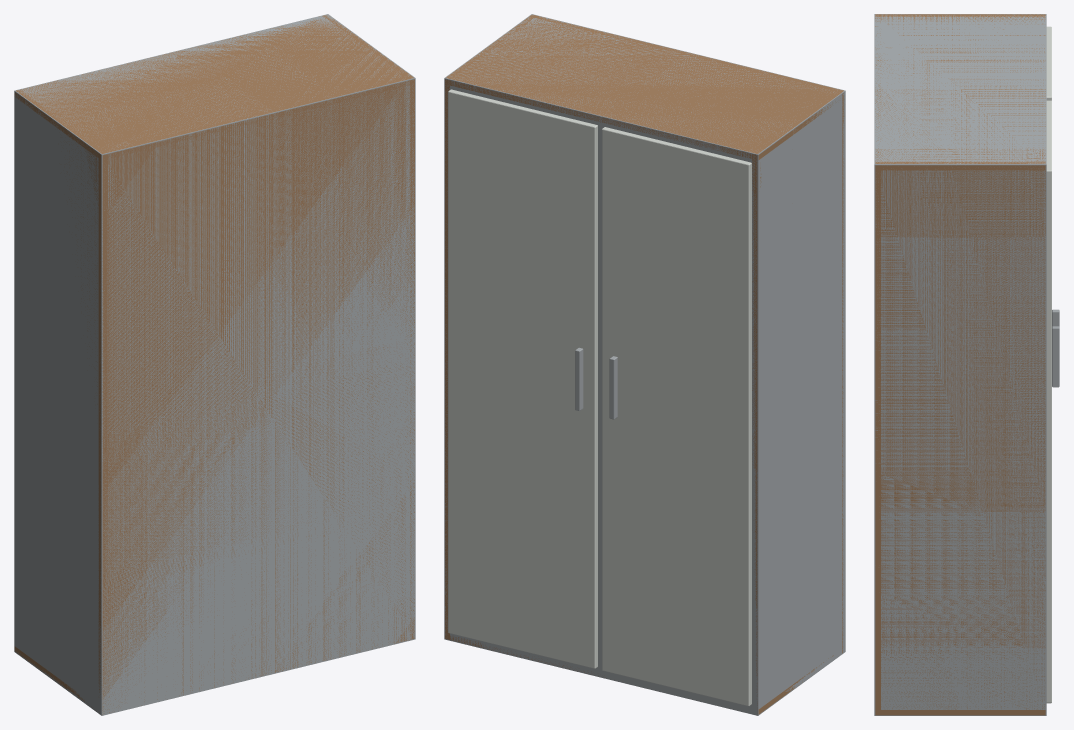
The model's file is wardrobe.glb.
The picture shows the model from 3 angles, left to right: view 1: azimuth 30°, elevation 25°; view 2: azimuth 150°, elevation 25°; view 3: azimuth 270°, elevation 25°; orthographic projection.
Visible parts, largest first — view 1: propkit_wardrobe_COL, propkit_wardrobe_001_back, propkit_wardrobe_005_top, propkit_wardrobe_002_side_-1, propkit_wardrobe_003_side_1; view 2: propkit_wardrobe_006_door_-1, propkit_wardrobe_008_door_1, propkit_wardrobe_COL, propkit_wardrobe_005_top, propkit_wardrobe_002_side_-1, propkit_wardrobe_003_side_1, propkit_wardrobe_001_back; view 3: propkit_wardrobe_COL, propkit_wardrobe_003_side_1, propkit_wardrobe_005_top, propkit_wardrobe_008_door_1, propkit_wardrobe_001_back, propkit_wardrobe_004_base, propkit_wardrobe_002_side_-1, propkit_wardrobe_009_pull_1, propkit_wardrobe_006_door_-1.
Part boxes in pixels (box(x1,y1,x2,y2)): propkit_wardrobe_COL: box(14, 14, 415, 715); propkit_wardrobe_001_back: box(98, 76, 414, 713); propkit_wardrobe_005_top: box(14, 16, 414, 157); propkit_wardrobe_002_side_-1: box(16, 90, 107, 714); propkit_wardrobe_003_side_1: box(323, 15, 414, 639); propkit_wardrobe_006_door_-1: box(602, 127, 751, 706); propkit_wardrobe_008_door_1: box(448, 89, 597, 668); propkit_wardrobe_COL: box(444, 14, 845, 715); propkit_wardrobe_005_top: box(445, 16, 839, 159); propkit_wardrobe_002_side_-1: box(752, 91, 843, 713); propkit_wardrobe_003_side_1: box(445, 15, 536, 639); propkit_wardrobe_001_back: box(529, 15, 844, 653); propkit_wardrobe_COL: box(874, 14, 1046, 715); propkit_wardrobe_003_side_1: box(875, 161, 1045, 709); propkit_wardrobe_005_top: box(875, 16, 1045, 170); propkit_wardrobe_008_door_1: box(1046, 100, 1051, 703); propkit_wardrobe_001_back: box(875, 14, 880, 715); propkit_wardrobe_004_base: box(877, 710, 1045, 715); propkit_wardrobe_002_side_-1: box(875, 14, 1045, 16); propkit_wardrobe_009_pull_1: box(1052, 326, 1059, 387); propkit_wardrobe_006_door_-1: box(1046, 26, 1051, 100).
Size of the model in its own units: 1.2 by 2.05 by 0.6235.
